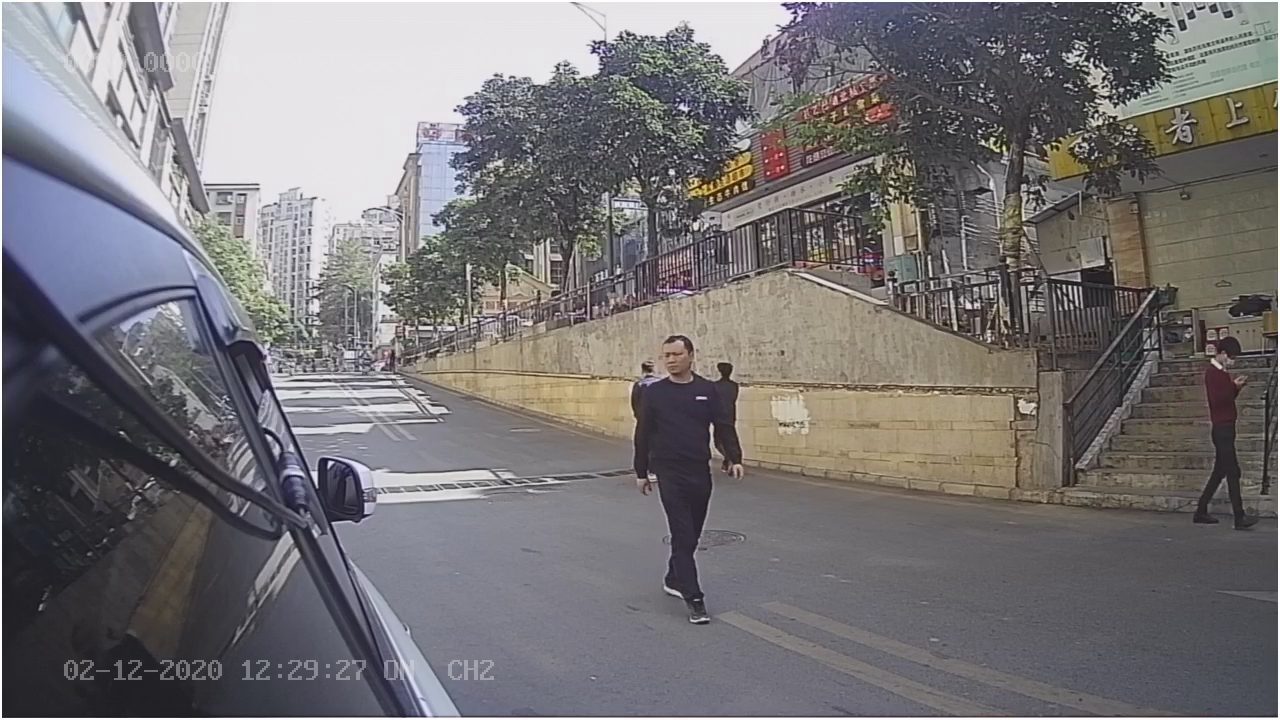person: (625, 332, 745, 627)
